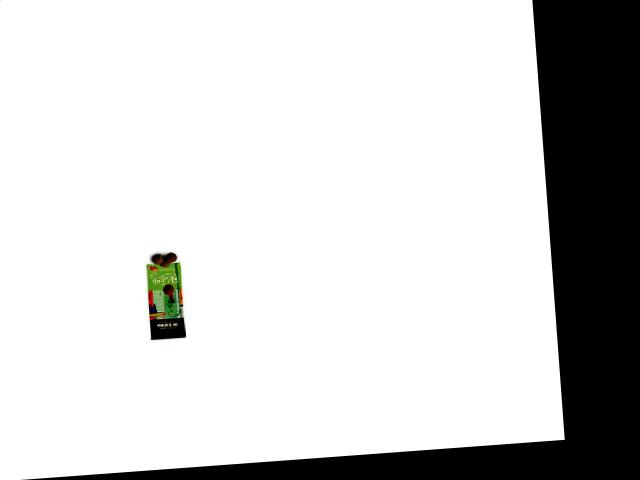chocolate: (140, 260, 194, 343)
